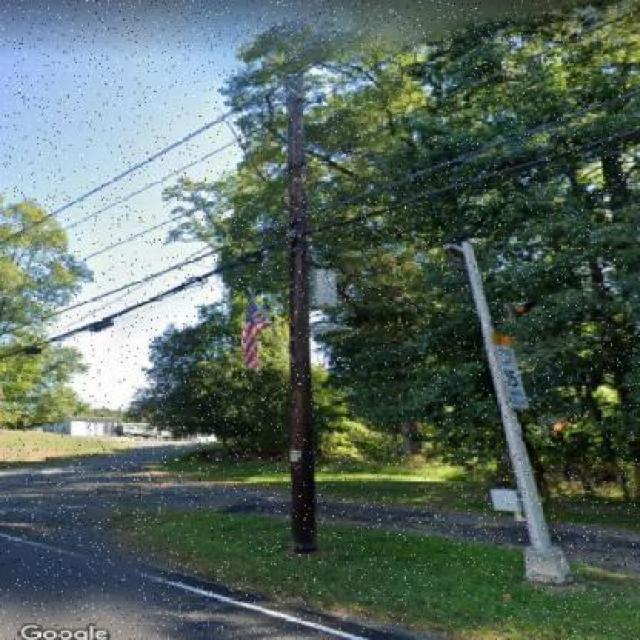pole: (206, 46, 386, 566)
